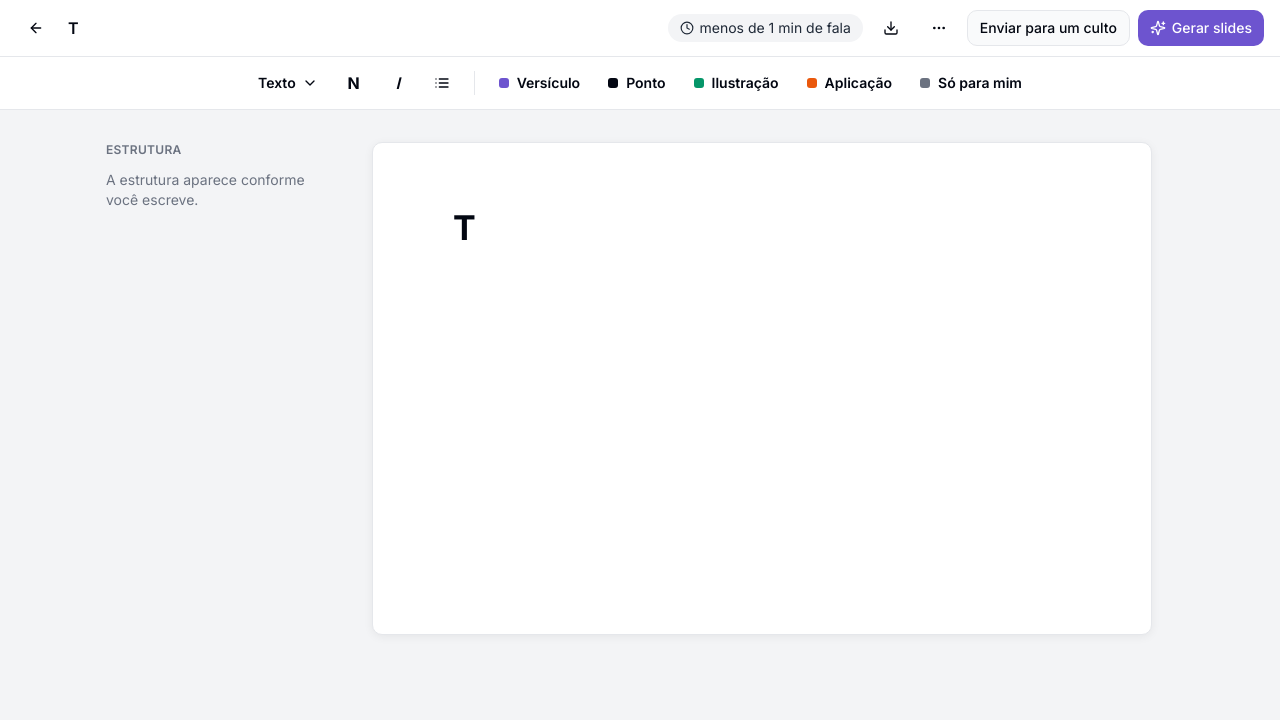
Test case: SermonEditorPage › Duplicar depois de um salvamento que falhou não duplica
Replace the text in the field named "Título da palavra" with "Novo". click: (762, 228)
box: [453,207,1071,250]
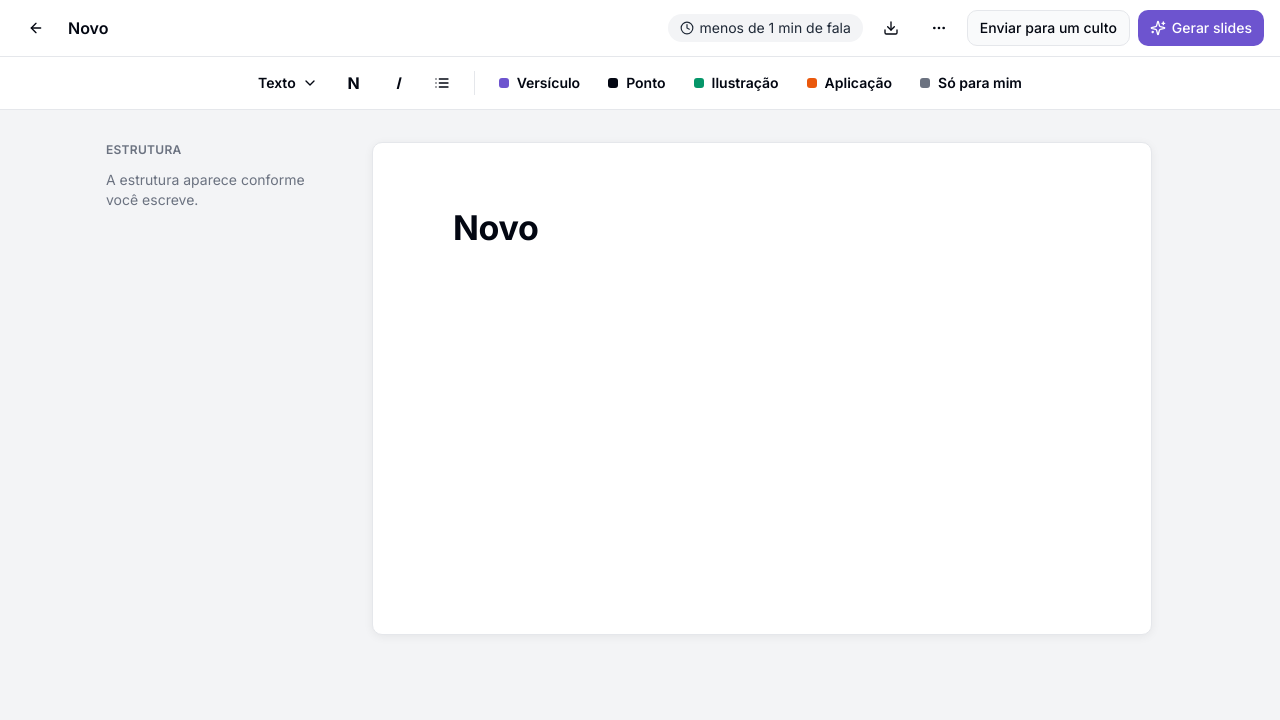
Press Enter in the button named "Mais ações", box [919,8,959,48]
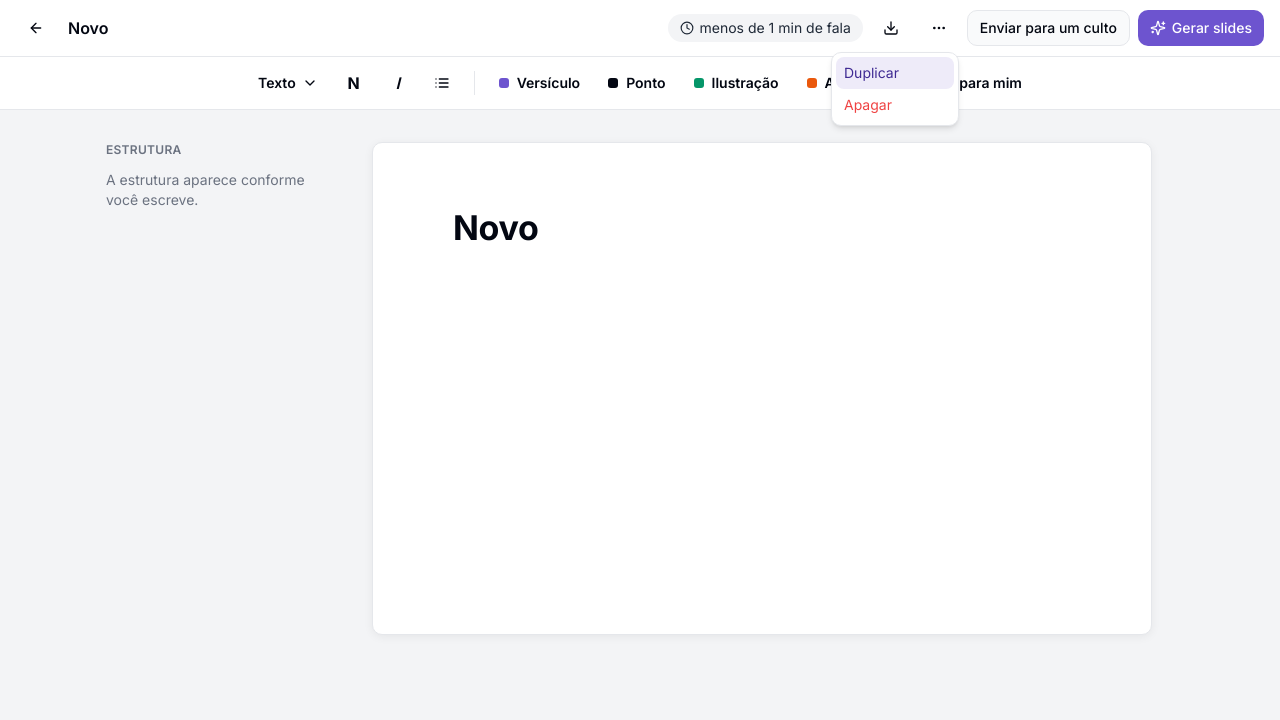
Click the menu item "Duplicar". click: (895, 73)
box: [836,57,954,89]
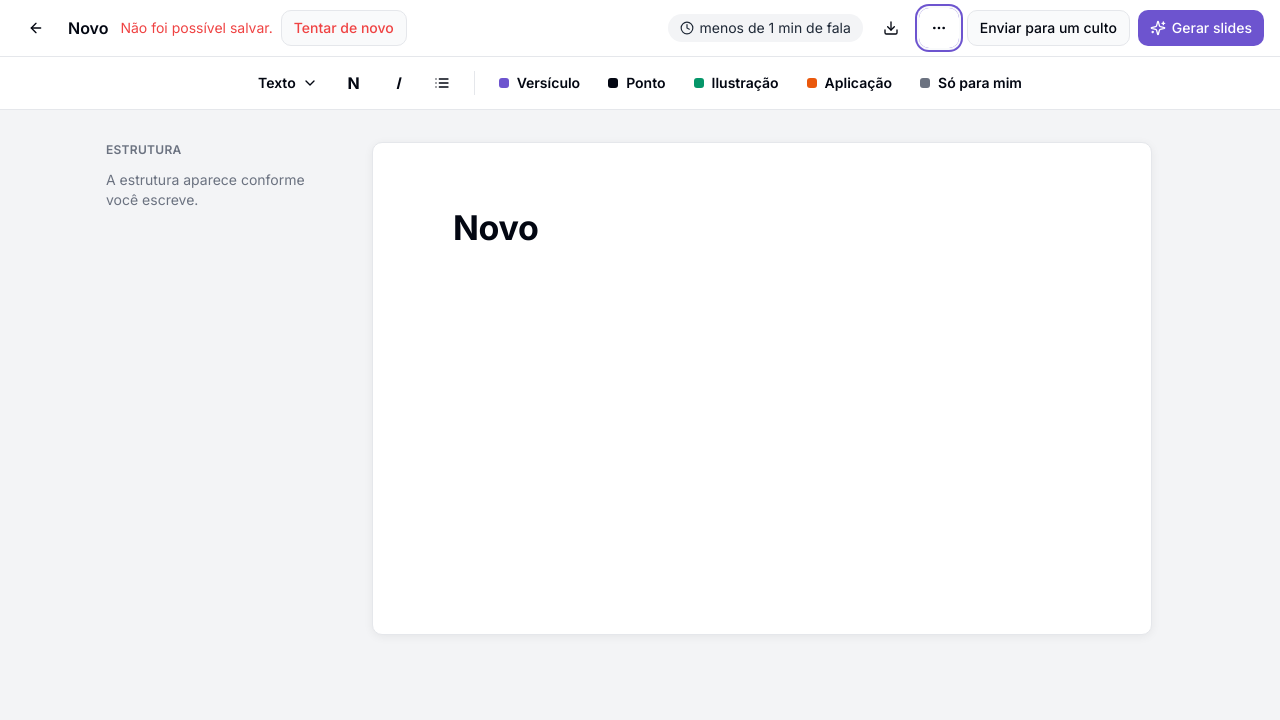
Result: the text "Não foi possível salvar." is shown at [120,19,273,36]
